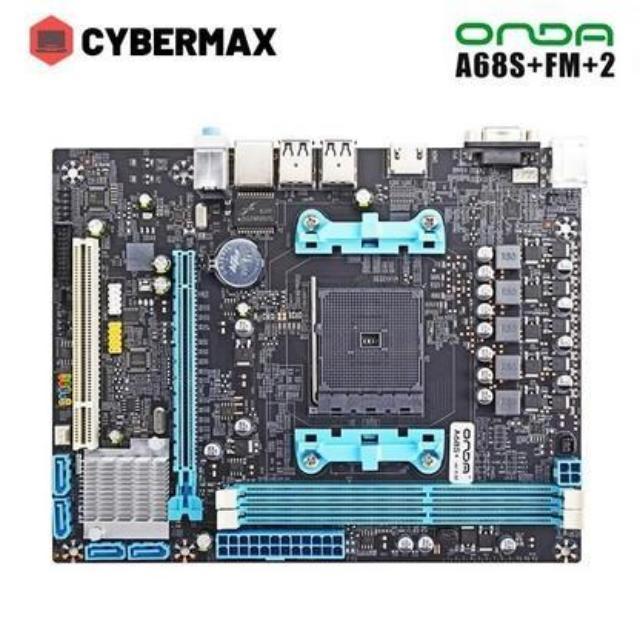Mainboard: (41, 137, 588, 568)
